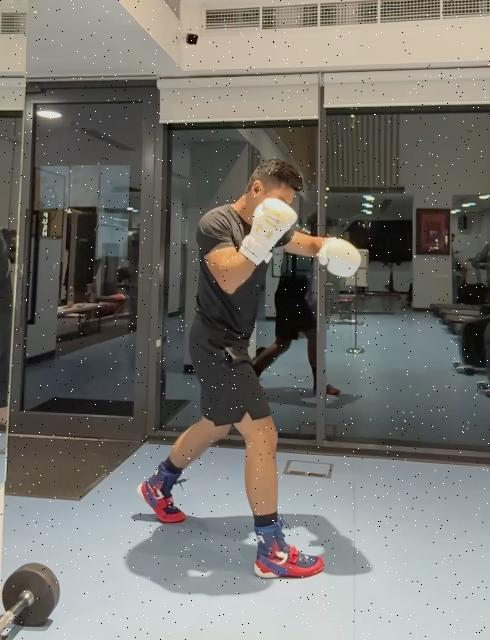punch: (136, 157, 360, 583)
